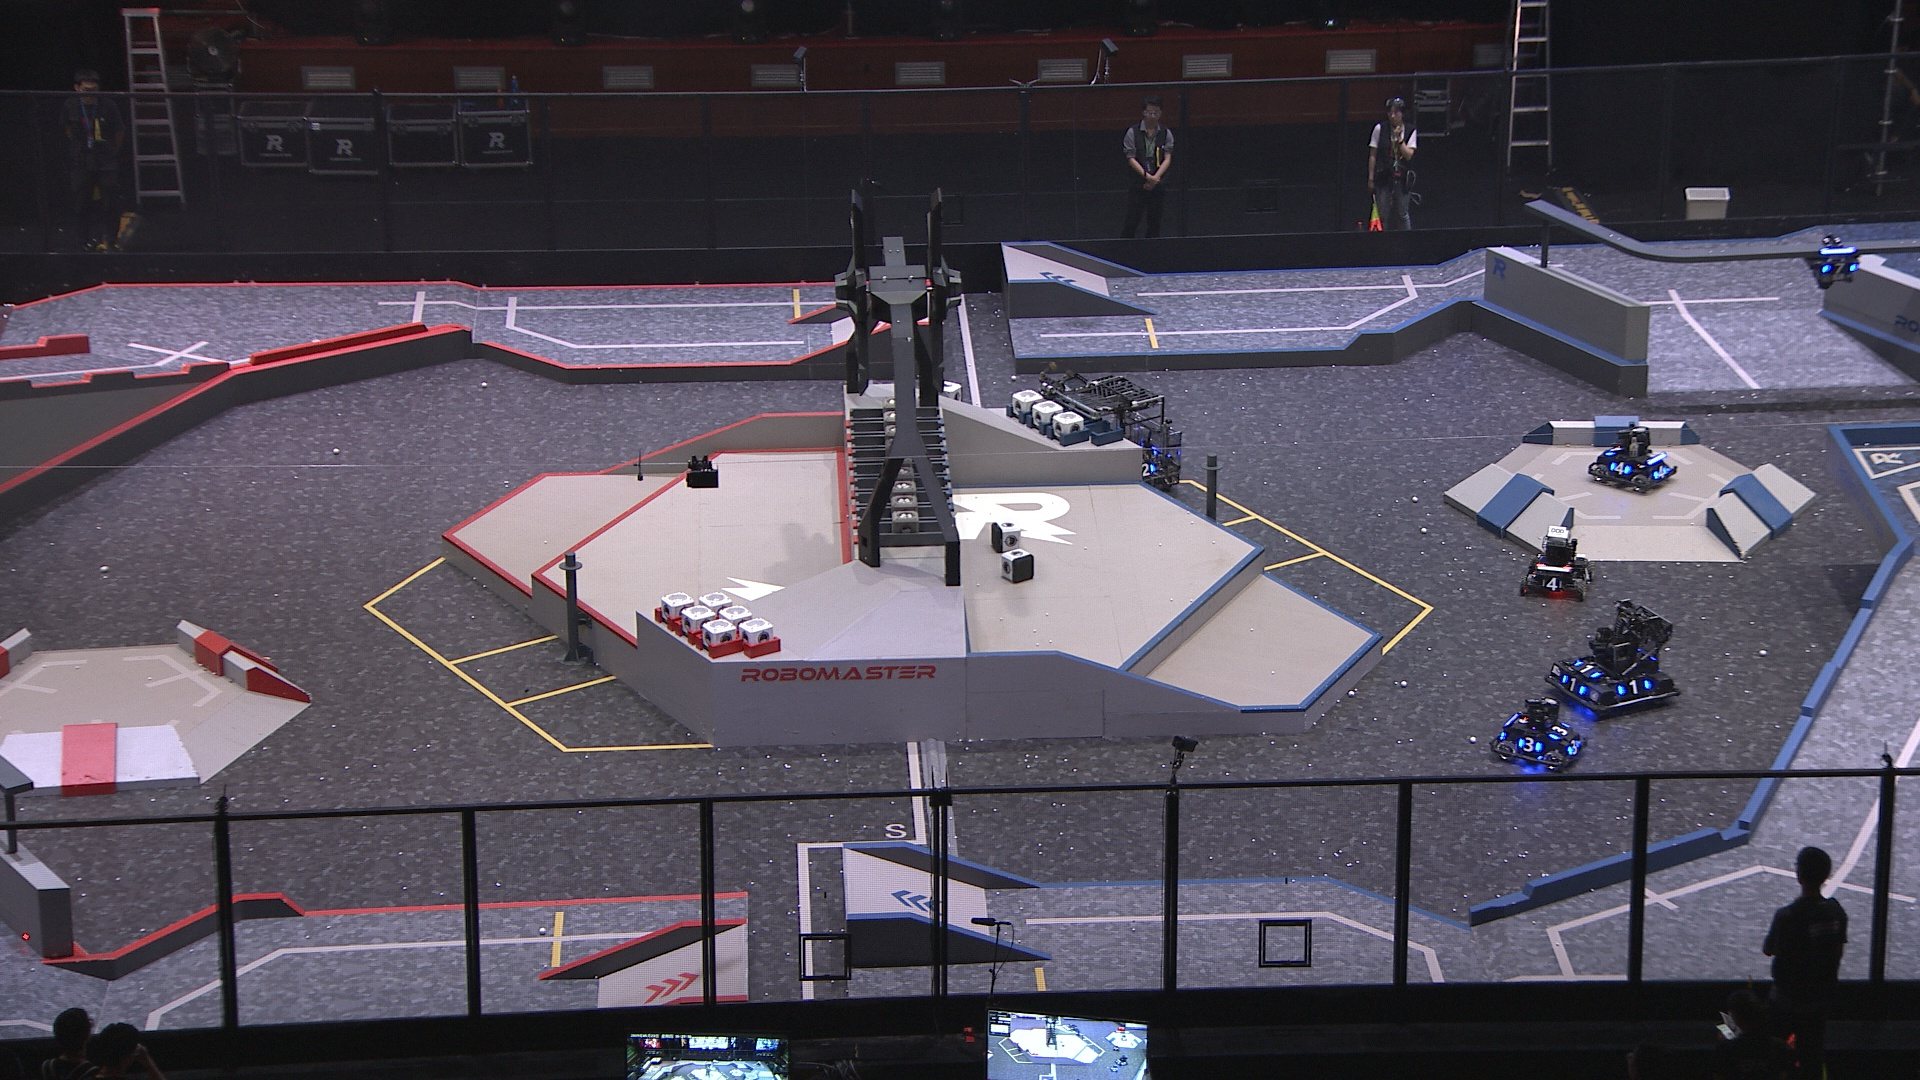armor: (1514, 733, 1543, 760), (1618, 678, 1650, 699), (1572, 655, 1600, 675), (1560, 673, 1585, 694), (1821, 262, 1855, 276), (1548, 723, 1569, 741), (1610, 462, 1633, 477), (1542, 575, 1564, 589), (1567, 737, 1582, 757), (1652, 463, 1669, 480), (1604, 442, 1621, 458), (1578, 564, 1594, 582), (1141, 462, 1154, 477)
car: (1033, 371, 1182, 502), (1548, 597, 1680, 716), (1487, 698, 1585, 773), (1585, 419, 1683, 491), (1520, 524, 1596, 600)
watcher: (1809, 233, 1865, 290)
